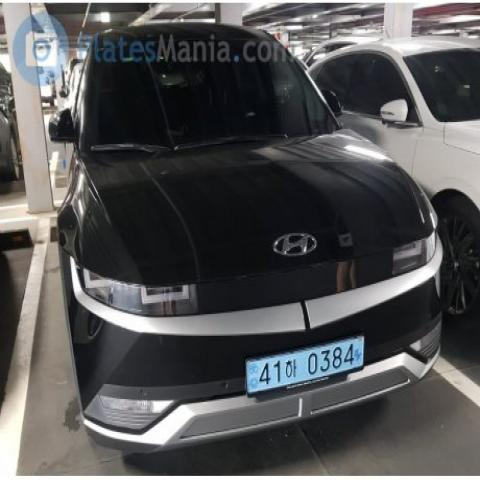LP: (237, 326, 370, 404)
